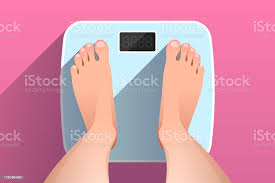Feet: (69, 40, 116, 148), (163, 39, 204, 143)
